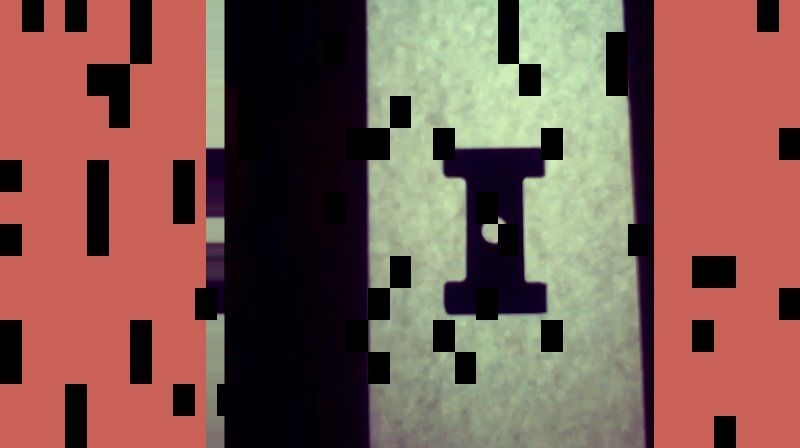O002: (439, 141, 547, 317)
